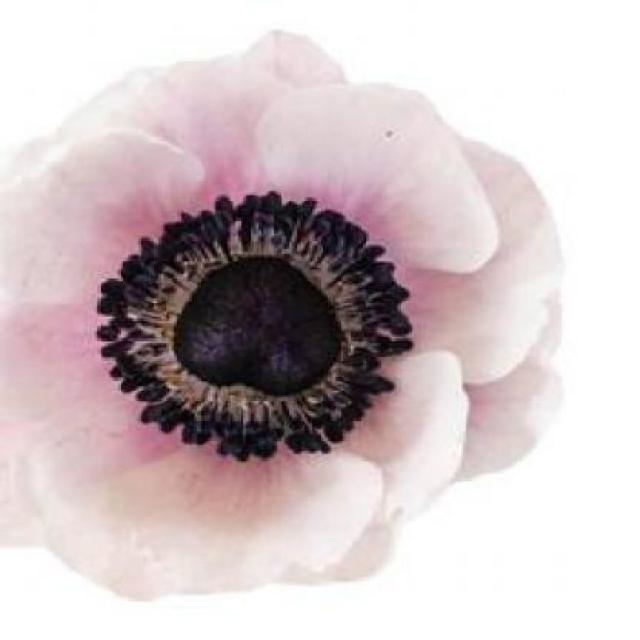Flower: (2, 29, 564, 600), (95, 191, 418, 463)
